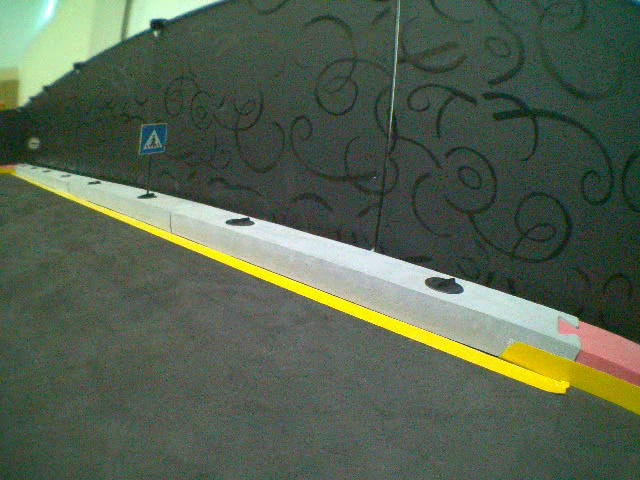crossing: (138, 123, 169, 155)
